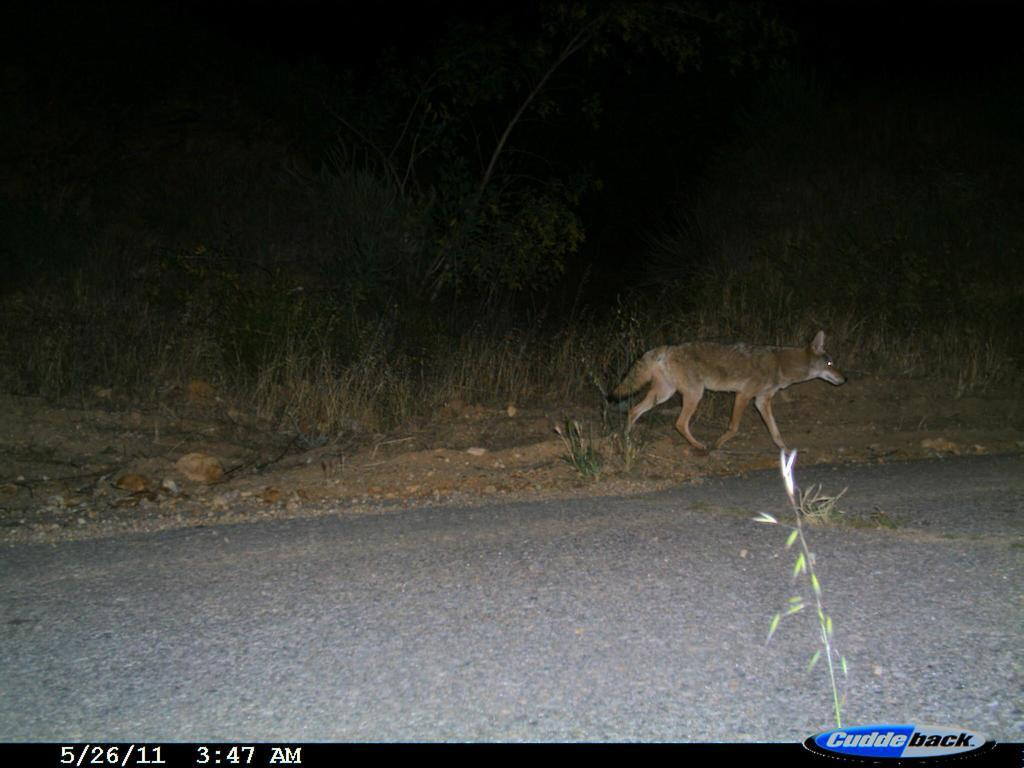coyote: (603, 324, 853, 460)
